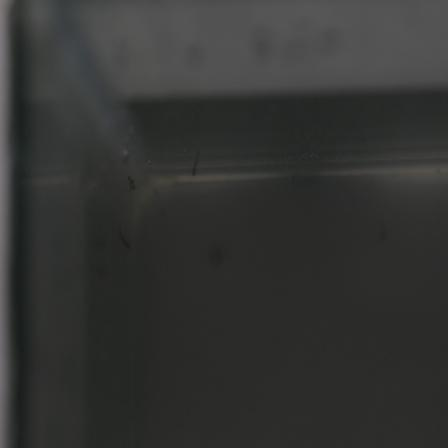Jentik-Nyamuk: (186, 142, 204, 181)
